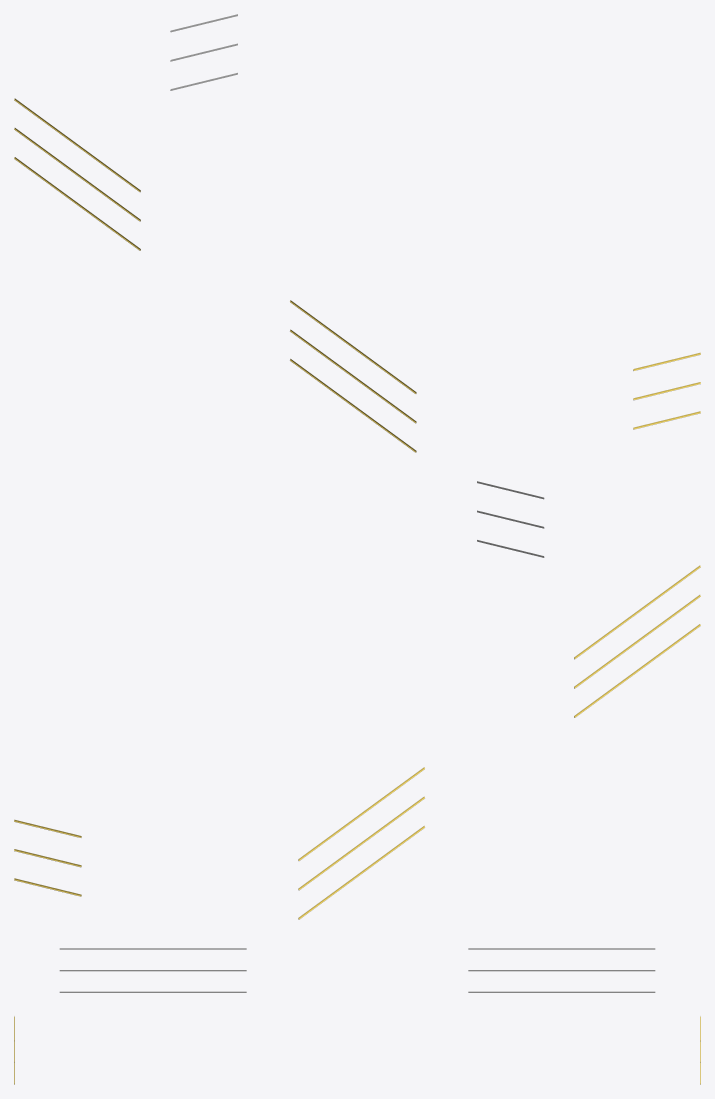
Rendered from lights_operacionny.fbx.
3 views of the same model, one above another, from view 1: azimuth 30°, elevation 25°; view 2: azimuth 150°, elevation 25°; view 3: azimuth 270°, elevation 25° (orthographic). The views are drawn at different scales.
Parts seen in each view (by area): view 1: Lights_skafy_dlinnije_female001, Lights_skafy_dlinnije_female; view 2: Lights_skafy_dlinnije_female, Lights_skafy_dlinnije_female001; view 3: Lights_skafy_dlinnije_female, Lights_skafy_dlinnije_female001.
Part boxes in pixels (<box>): Lights_skafy_dlinnije_female001: <box>14,98,140,250</box>; Lights_skafy_dlinnije_female: <box>290,300,416,452</box>; Lights_skafy_dlinnije_female: <box>574,565,700,717</box>; Lights_skafy_dlinnije_female001: <box>298,767,424,919</box>; Lights_skafy_dlinnije_female: <box>59,948,246,992</box>; Lights_skafy_dlinnije_female001: <box>468,948,655,992</box>.
Size of the model in its own units: 177 by 40.13 by 559.
